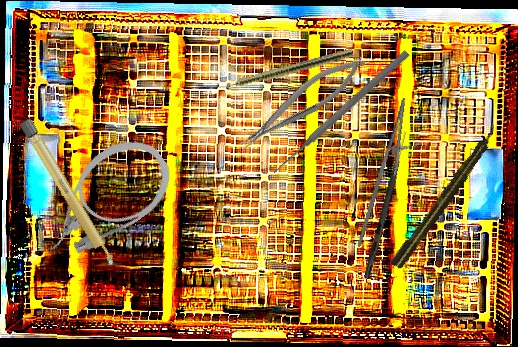Cannula: (21, 125, 184, 272)
Handpiece: (388, 121, 504, 272), (212, 46, 354, 95)
Hook Surgical: (363, 130, 409, 280)
Needle Holder: (230, 47, 374, 157), (356, 94, 418, 253)
Pusher: (270, 48, 411, 177)
Scalpel Handle: (17, 115, 119, 273)
